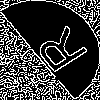R: (25, 25, 90, 81)
